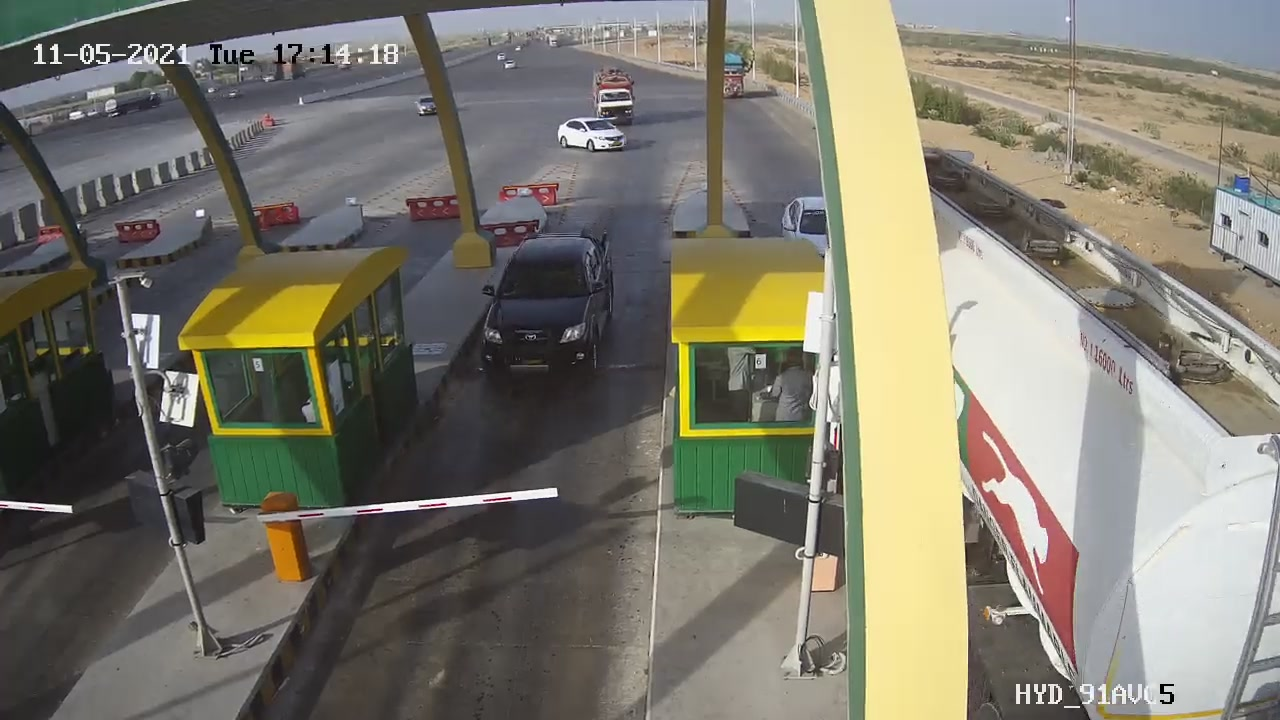F1: (469, 196, 642, 411)
